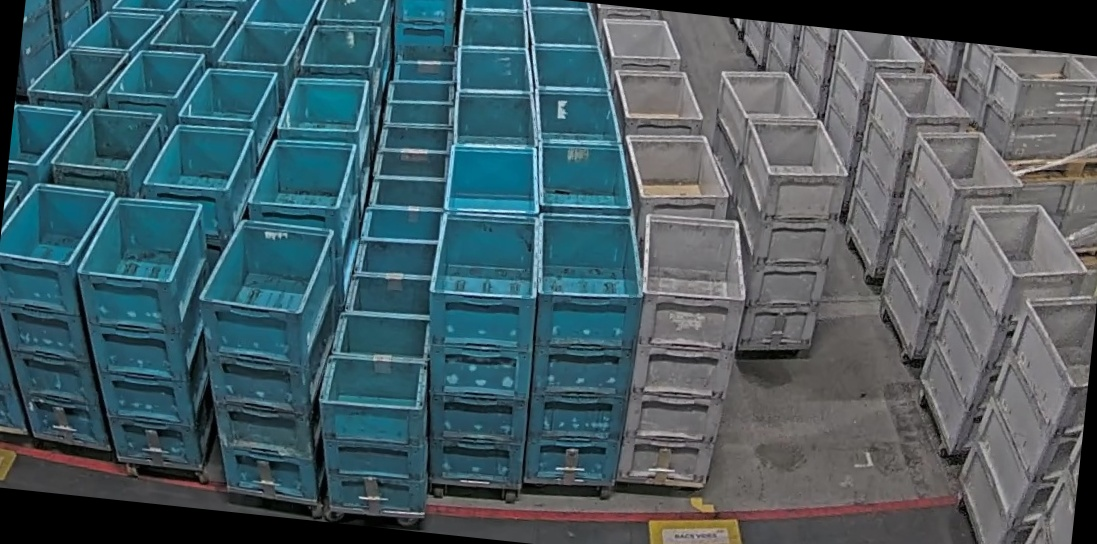4G: (618, 209, 755, 492), (720, 112, 853, 362)
B4: (56, 190, 238, 472), (181, 211, 350, 503), (409, 205, 549, 489), (510, 207, 649, 491), (0, 179, 137, 448)
B8: (308, 304, 448, 516)
